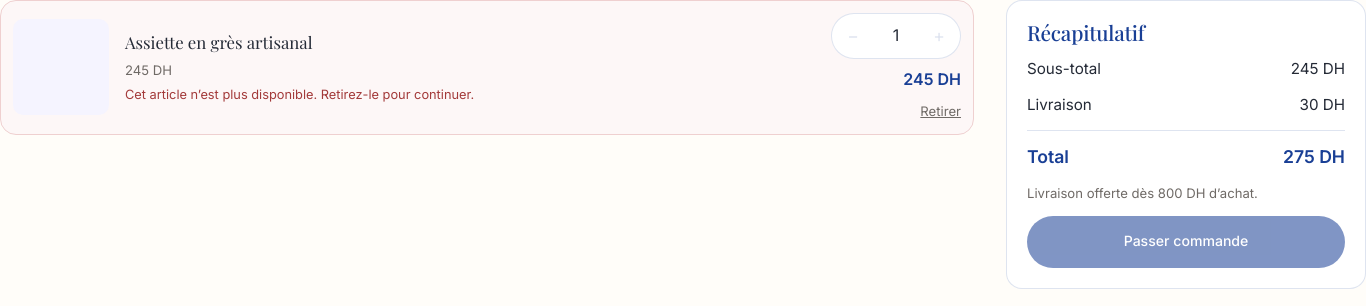
Test case: cart › removes a line and blocks checkout while a line is unavailable
The image size is (1366, 306).
Expected: the button "Passer commande" is disabled, [1027, 216, 1345, 268]
Click the button "Retirer". click: (941, 111)
box: [920, 101, 961, 122]
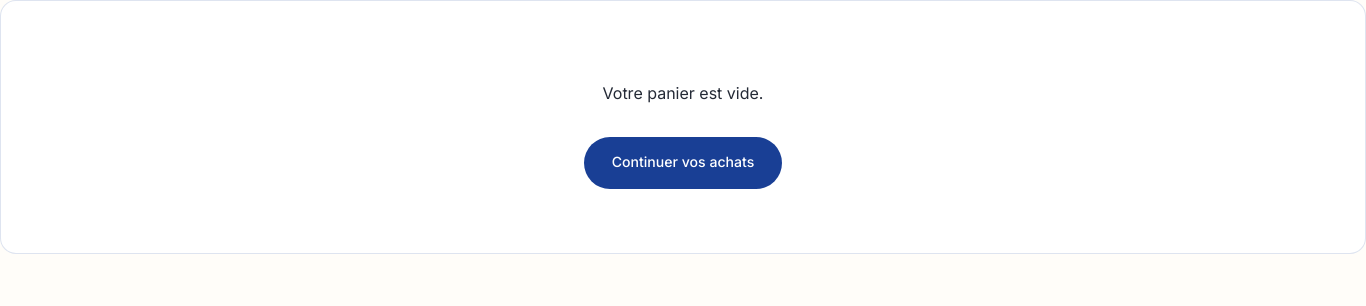
Expected: the text "Votre panier est vide." is shown, [603, 81, 764, 107]
